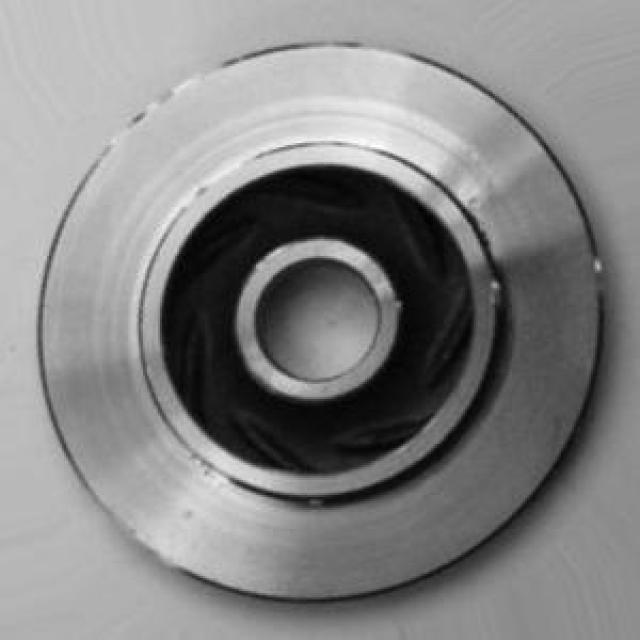Defect: (476, 265, 512, 314)
